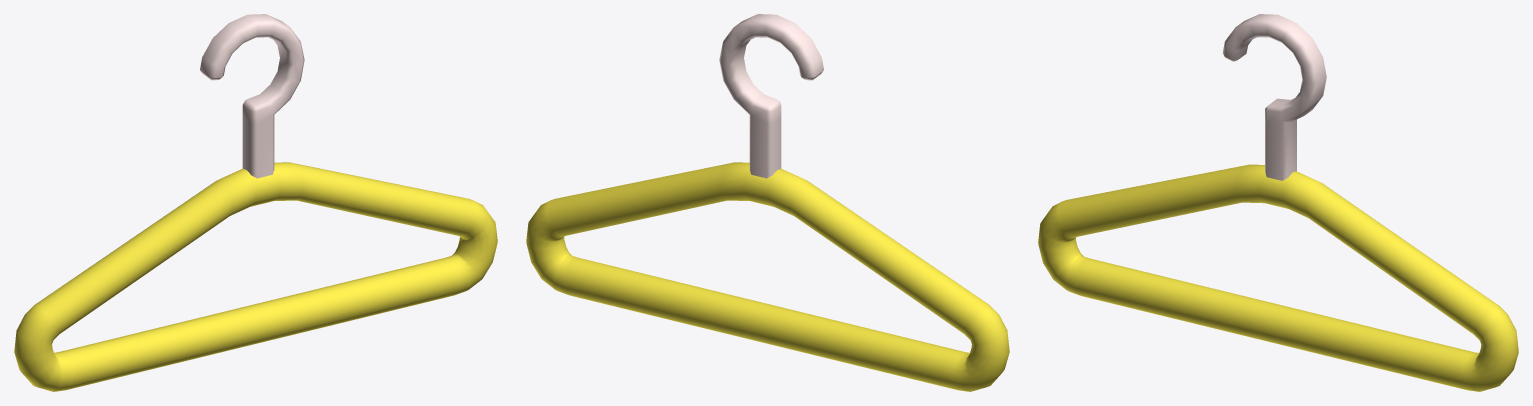
Rendered from Public_19_Clothes_hanger_4.glb.
The picture shows the model from 3 angles, left to right: view 1: azimuth 30°, elevation 25°; view 2: azimuth 150°, elevation 25°; view 3: azimuth 330°, elevation 25°; orthographic projection.
Parts seen in each view (by area): view 1: Public_19_Clothes_hanger_4; view 2: Public_19_Clothes_hanger_4; view 3: Public_19_Clothes_hanger_4.
Boxes of the visible parts, x1,y1,x2,y2 form: Public_19_Clothes_hanger_4: [14, 14, 497, 391]; Public_19_Clothes_hanger_4: [526, 14, 1009, 391]; Public_19_Clothes_hanger_4: [1038, 14, 1518, 391].
Size of the model in its own units: 0.6304 by 0.409 by 0.0446.
1 material, 1 textured.
